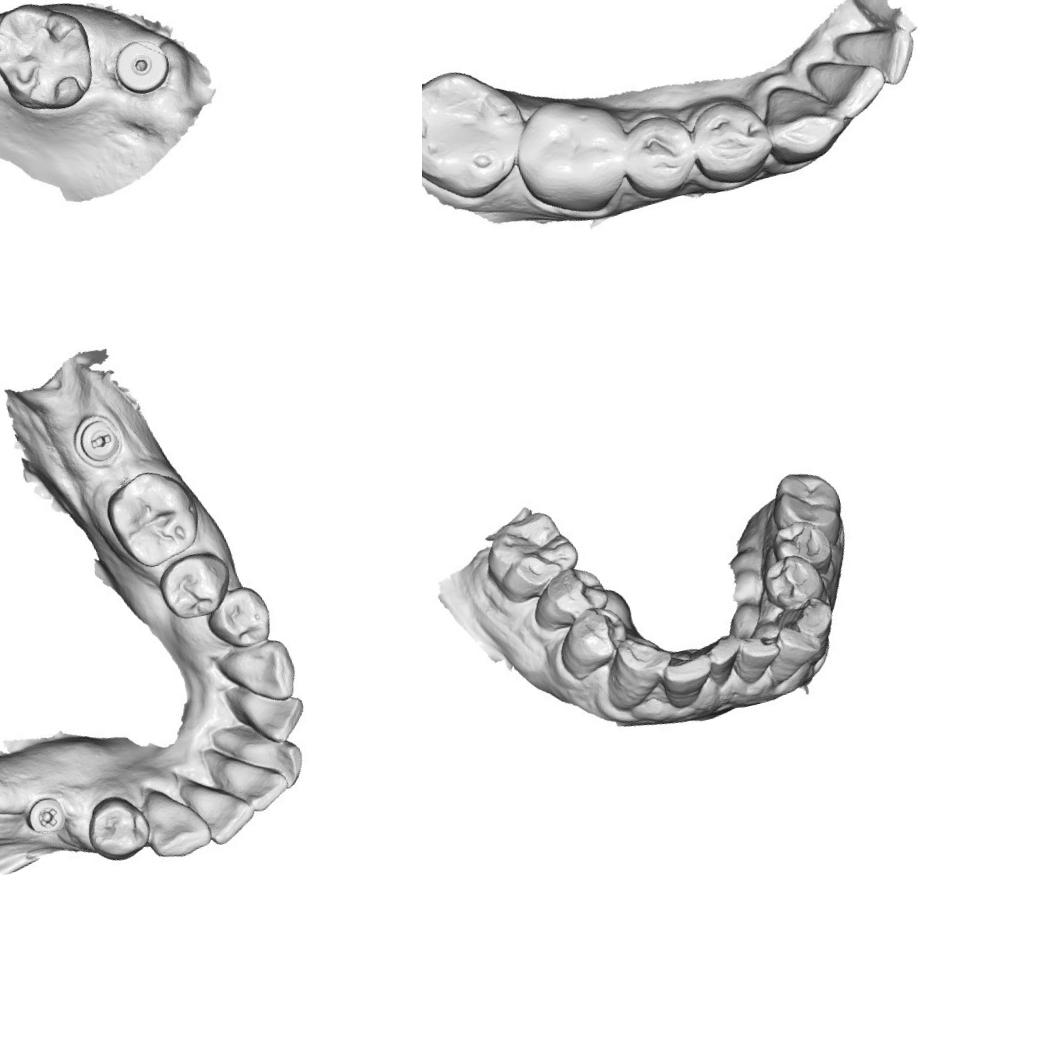canine: (759, 76, 854, 174), (212, 630, 304, 716), (132, 775, 213, 866), (594, 630, 676, 714), (771, 596, 842, 650)
implant: (102, 23, 184, 111)
implant_minus: (62, 395, 136, 480)
implant_plus: (11, 780, 79, 852)
incisor: (218, 714, 310, 802), (807, 45, 890, 130), (832, 18, 922, 94), (181, 762, 258, 849), (228, 671, 310, 747), (212, 748, 293, 820), (768, 622, 830, 688), (660, 646, 719, 711), (732, 628, 784, 692), (702, 631, 747, 691)
molar: (504, 85, 637, 224), (422, 57, 538, 211), (0, 0, 104, 122), (100, 460, 210, 574), (481, 508, 581, 606), (771, 461, 846, 542)
premolar: (682, 88, 776, 184), (612, 106, 704, 201), (524, 558, 615, 638), (151, 542, 234, 626), (552, 604, 632, 683), (198, 577, 276, 653), (81, 788, 154, 868), (756, 551, 829, 613), (769, 514, 837, 578)
